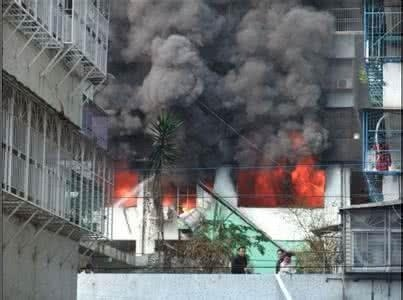fire: (243, 138, 328, 205), (113, 168, 140, 204), (161, 189, 196, 210)
